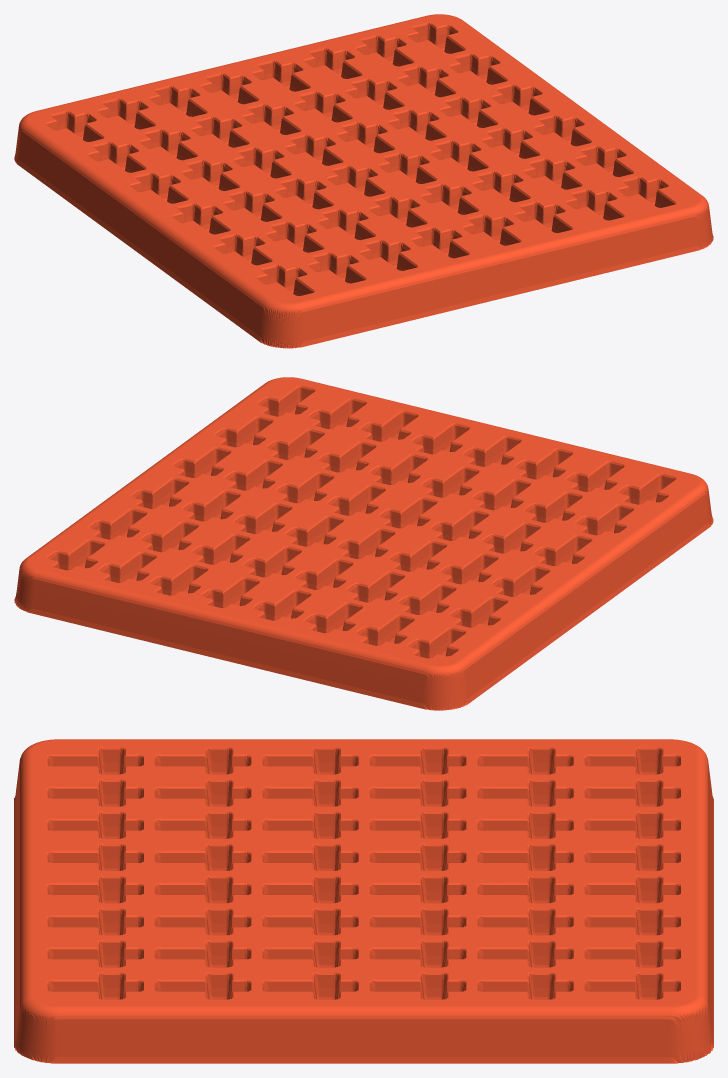
Rendered from mold.glb.
3 renders of one model, top to bottom at view 1: azimuth 30°, elevation 25°; view 2: azimuth 150°, elevation 25°; view 3: azimuth 270°, elevation 25°, orthographic. The views are drawn at different scales.
Parts seen in each view (by area): view 1: geometry_0; view 2: geometry_0; view 3: geometry_0.
Part boxes in pixels (<box>): geometry_0: <box>14,14,713,348</box>; geometry_0: <box>14,377,713,710</box>; geometry_0: <box>14,739,713,1063</box>.
Bounding box in the file's own units: 0.1369 × 0.0114 × 0.1443.
